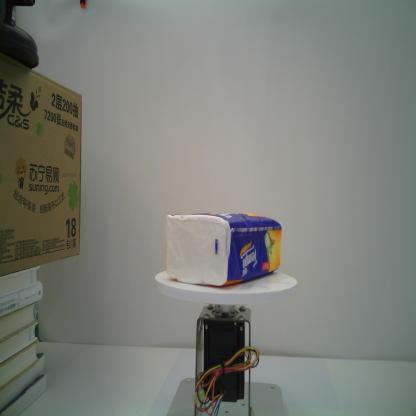Tissue: (163, 211, 283, 287)
